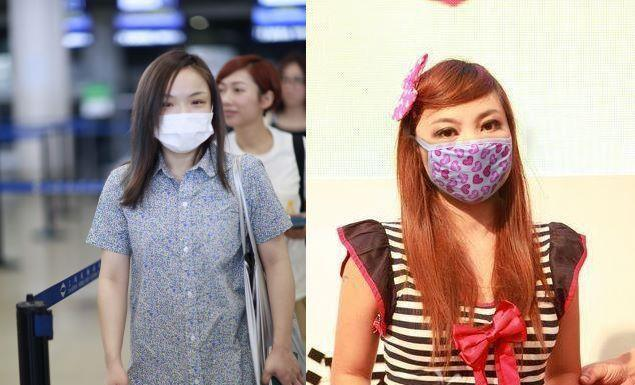NONE: (219, 84, 257, 126)
OK: (427, 105, 517, 195), (149, 90, 214, 155)
